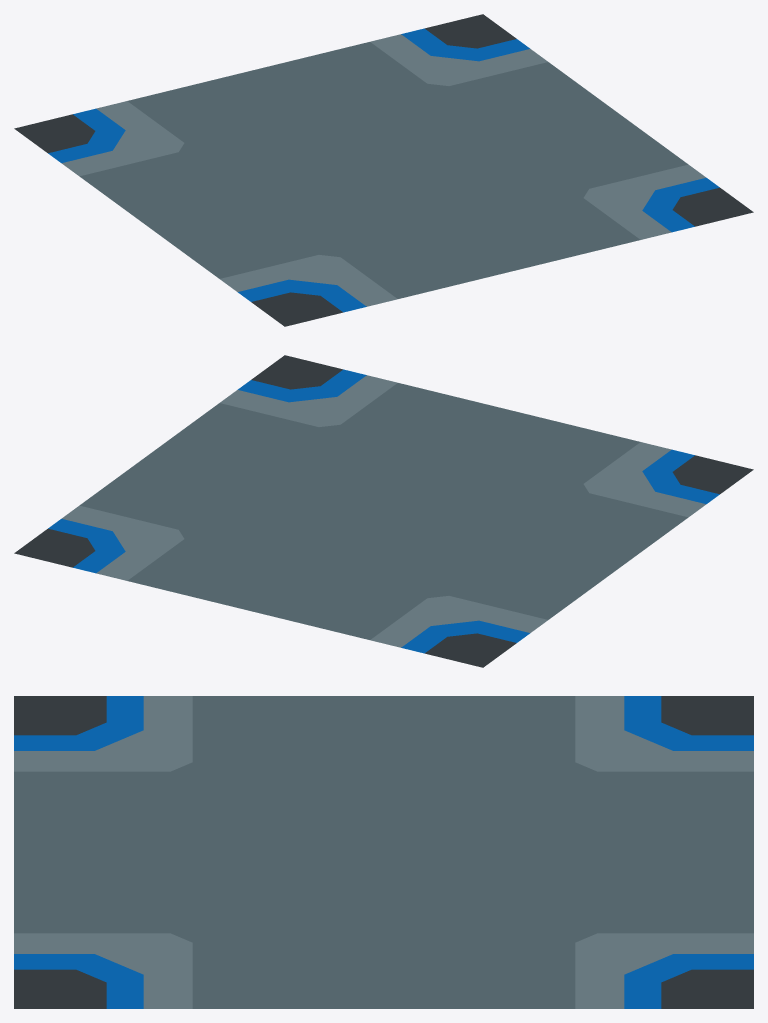
File: Ceiling_type_C_055.fbx
3 renders of one model, top to bottom at view 1: azimuth 30°, elevation 25°; view 2: azimuth 150°, elevation 25°; view 3: azimuth 270°, elevation 25°, orthographic. The views are drawn at different scales.
Parts seen in each view (by area): view 1: Ceiling_type_C_055; view 2: Ceiling_type_C_055; view 3: Ceiling_type_C_055.
Boxes of the visible parts, x1,y1,x2,y2 form: Ceiling_type_C_055: [14, 14, 753, 326]; Ceiling_type_C_055: [14, 355, 753, 667]; Ceiling_type_C_055: [14, 696, 753, 1008].
Bounding box in the file's own units: 400 × 400 × 3.5.
